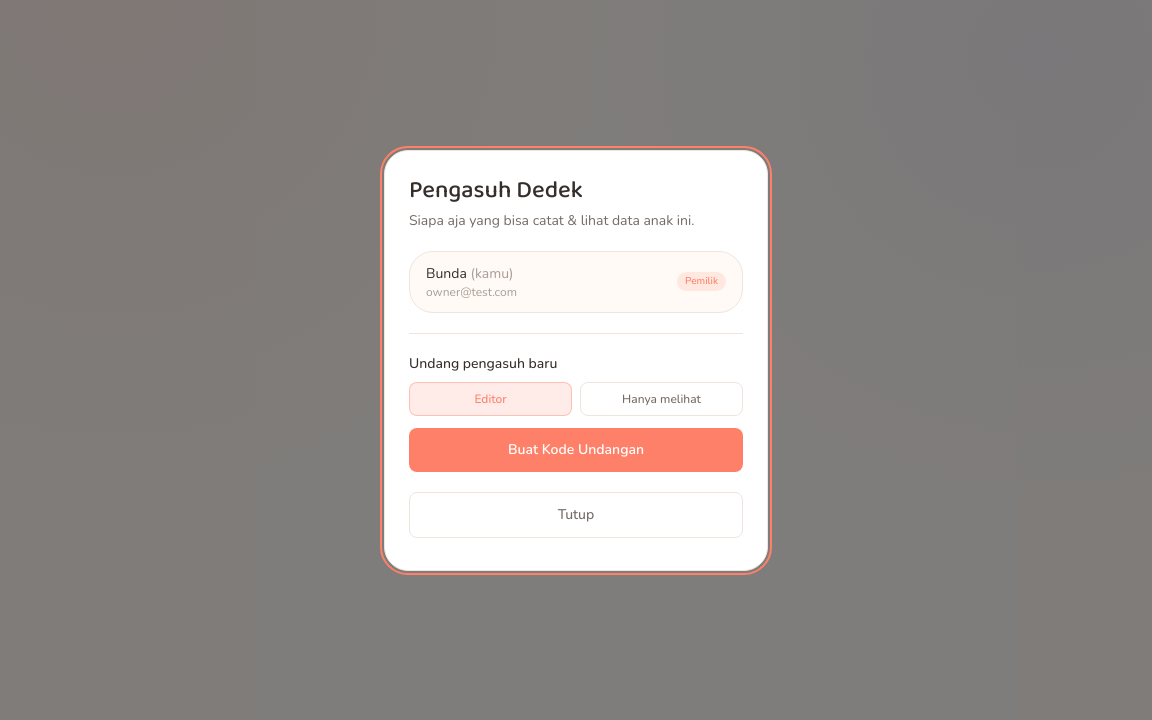
CaregiverModal — owner-only invitation UI › lets the owner pick Editor or Viewer, defaulting to Editor, before creating an invite
Check: the text "Undang pengasuh baru" is shown, box [409,354,557,372]
Click the button "Hanya melihat": (662, 398) [580,382,743,416]
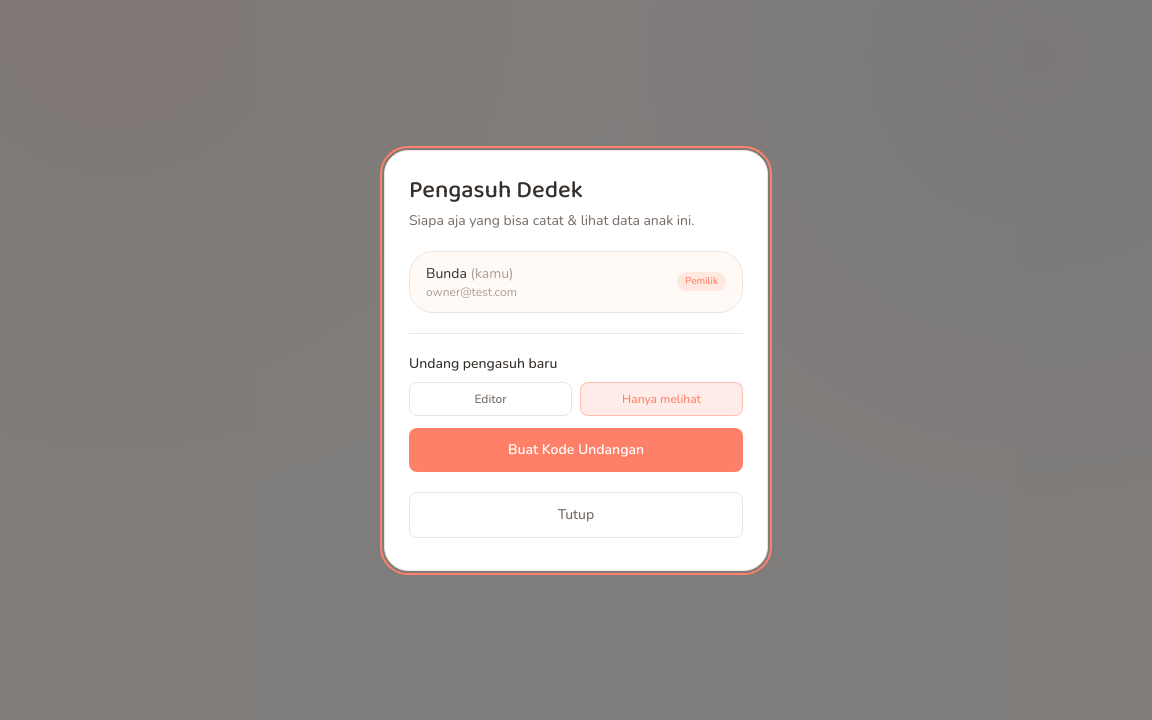
Click the button "Buat Kode Undangan": (576, 450) [409,428,743,472]
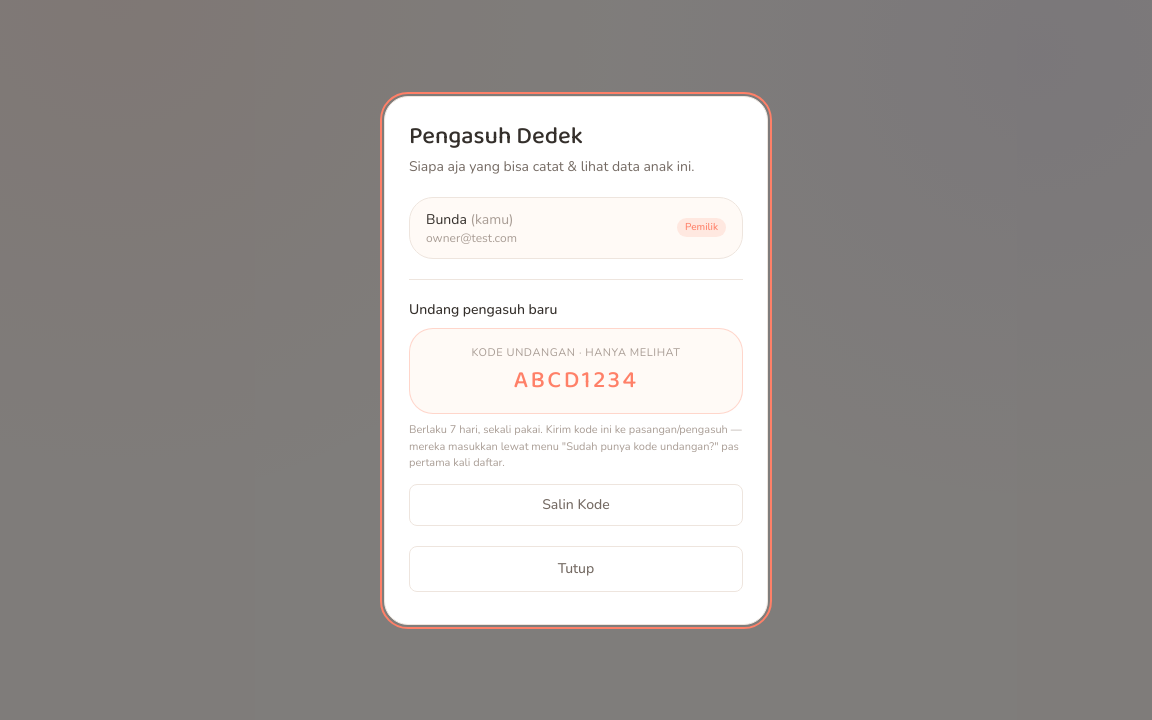
Check: the text "ABCD1234" is shown, box [514,361,638,400]
